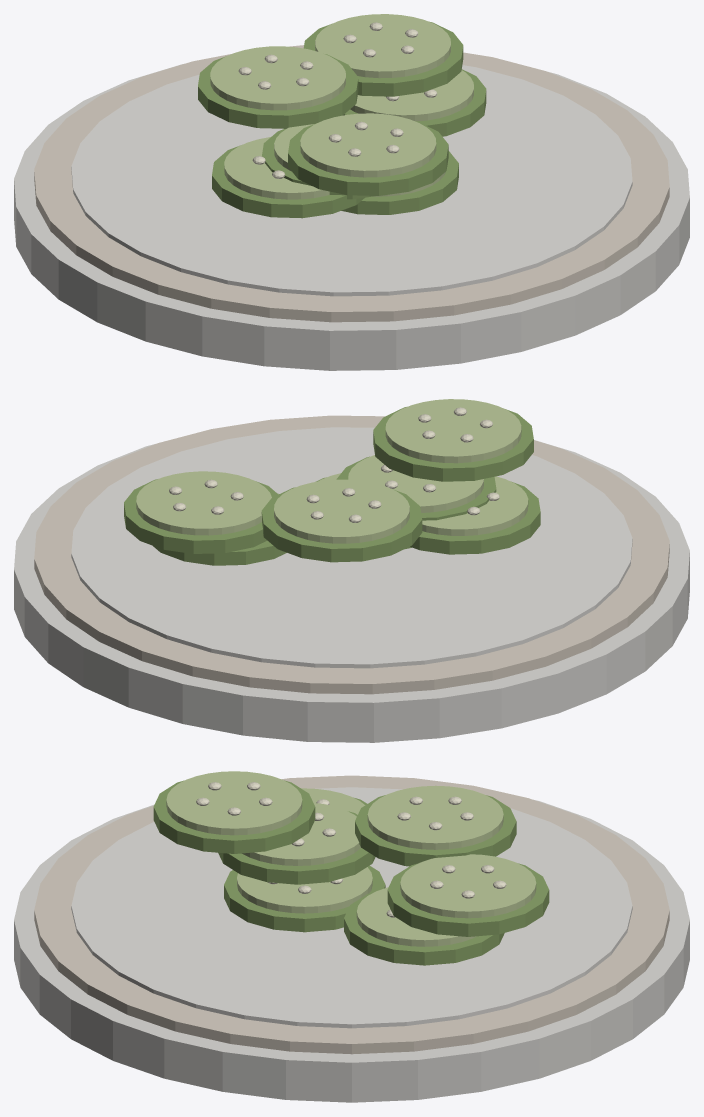
File: dua_chuot.glb
3 views of the same model, one above another, from view 1: azimuth 30°, elevation 25°; view 2: azimuth 150°, elevation 25°; view 3: azimuth 270°, elevation 25° (orthographic).
Visible parts, largest first — view 1: obj_0002, obj_0000, obj_0001, obj_0046, obj_0039, obj_0032, obj_0045, obj_0038, obj_0017, obj_0011, obj_0018, obj_0031 (+4 smaller); view 2: obj_0002, obj_0000, obj_0001, obj_0039, obj_0046, obj_0032, obj_0038, obj_0045, obj_0031, obj_0025, obj_0018, obj_0017 (+2 smaller); view 3: obj_0002, obj_0000, obj_0001, obj_0046, obj_0039, obj_0032, obj_0031, obj_0045, obj_0004, obj_0025, obj_0010, obj_0038 (+4 smaller).
Part boxes in pixels (x1,y1,x2,y2): obj_0002: [71, 65, 632, 296]; obj_0000: [14, 63, 689, 370]; obj_0001: [34, 45, 669, 322]; obj_0046: [300, 113, 436, 177]; obj_0039: [210, 46, 345, 110]; obj_0032: [315, 14, 450, 78]; obj_0045: [288, 121, 448, 195]; obj_0038: [198, 54, 358, 128]; obj_0017: [212, 145, 364, 218]; obj_0011: [350, 70, 473, 121]; obj_0018: [224, 137, 329, 199]; obj_0031: [303, 21, 463, 96]; obj_0002: [71, 427, 632, 668]; obj_0000: [14, 440, 689, 742]; obj_0001: [34, 415, 669, 694]; obj_0039: [274, 479, 409, 543]; obj_0046: [385, 399, 521, 463]; obj_0032: [136, 471, 271, 535]; obj_0038: [261, 487, 422, 562]; obj_0045: [373, 407, 533, 481]; obj_0031: [124, 479, 278, 553]; obj_0025: [348, 455, 483, 512]; obj_0018: [422, 476, 528, 535]; obj_0017: [410, 481, 540, 554]; obj_0002: [71, 787, 632, 1028]; obj_0000: [14, 799, 689, 1102]; obj_0001: [34, 775, 669, 1054]; obj_0046: [166, 771, 302, 835]; obj_0039: [367, 785, 503, 849]; obj_0032: [400, 854, 536, 918]; obj_0031: [387, 863, 549, 936]; obj_0045: [153, 780, 315, 853]; obj_0004: [237, 867, 372, 913]; obj_0025: [242, 802, 360, 865]; obj_0010: [344, 892, 504, 965]; obj_0038: [355, 795, 516, 866].
Size of the model in its own units: 1.84 by 0.435 by 1.84.
